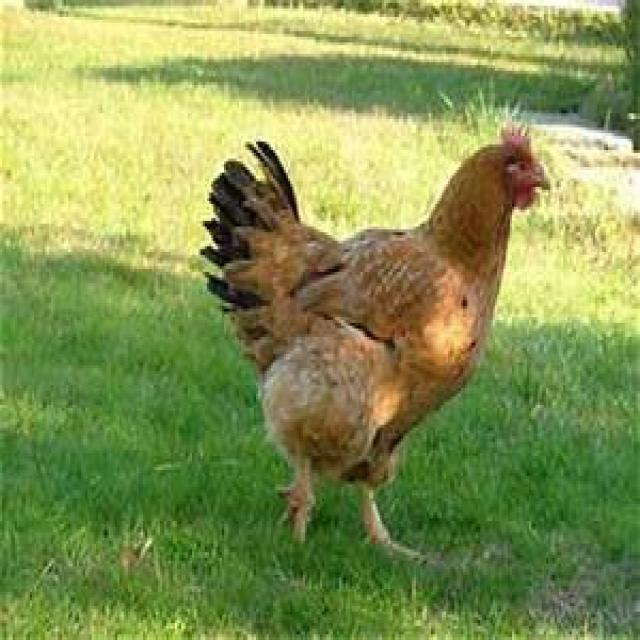hen: (204, 129, 546, 542)
